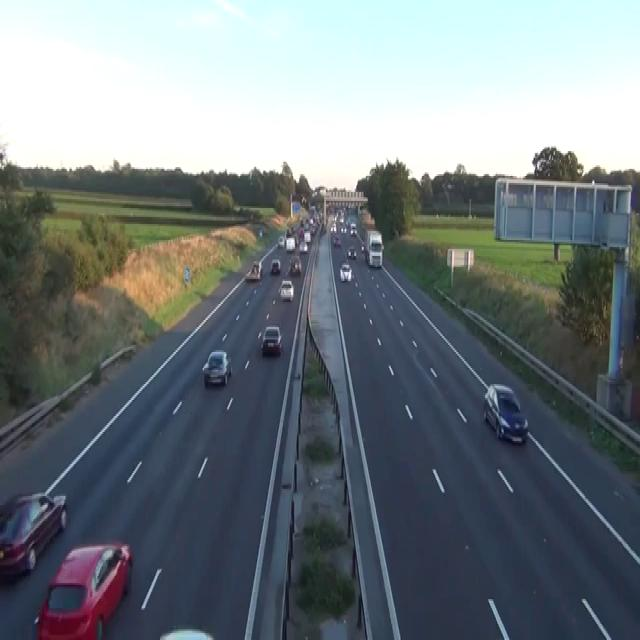Car: (34, 540, 132, 638), (0, 491, 67, 581), (483, 382, 528, 444), (202, 348, 232, 386), (260, 326, 282, 356), (159, 628, 214, 638), (245, 259, 262, 281), (279, 279, 294, 301), (339, 261, 352, 283), (289, 254, 301, 276), (270, 258, 280, 274), (285, 236, 295, 252), (347, 245, 356, 258), (299, 240, 308, 252), (297, 226, 304, 240), (332, 235, 341, 245), (303, 231, 311, 242), (277, 235, 284, 247), (350, 222, 356, 235), (330, 222, 337, 233), (446, 182, 453, 190), (301, 194, 306, 204), (340, 226, 347, 233), (285, 228, 291, 236), (294, 235, 298, 245), (259, 228, 262, 236), (361, 242, 364, 250)
Truck: (363, 229, 384, 267)
